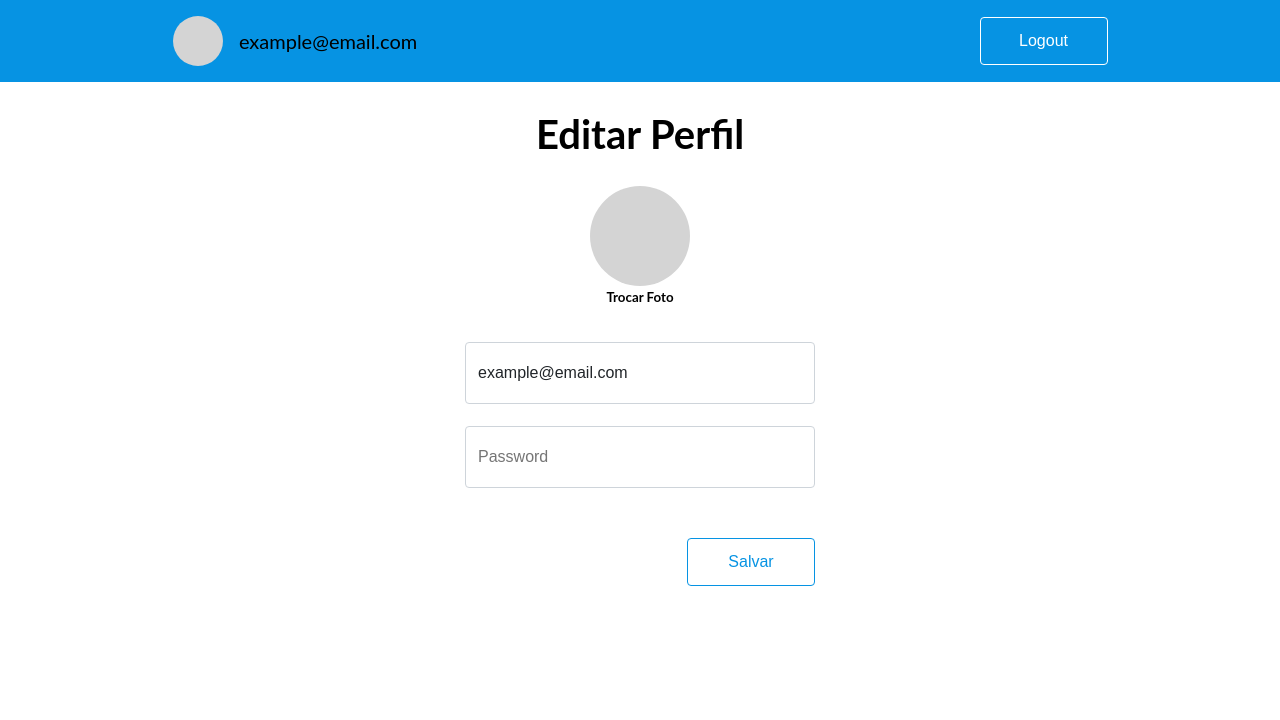
Test: Form Validations › should validate empty fields
Clear the field with placeholder "Username" at (640, 373), box [465,342,815,404]
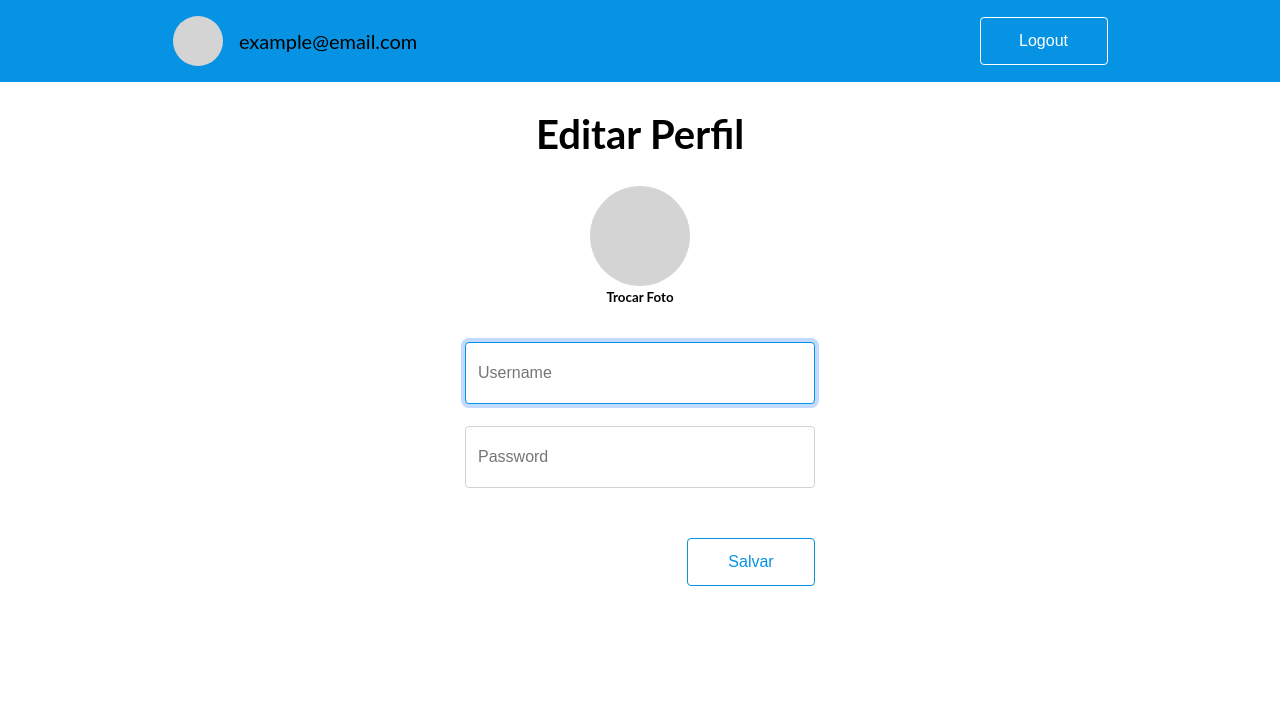
Click the button "Salvar" at (751, 562), box [687,538,815,586]
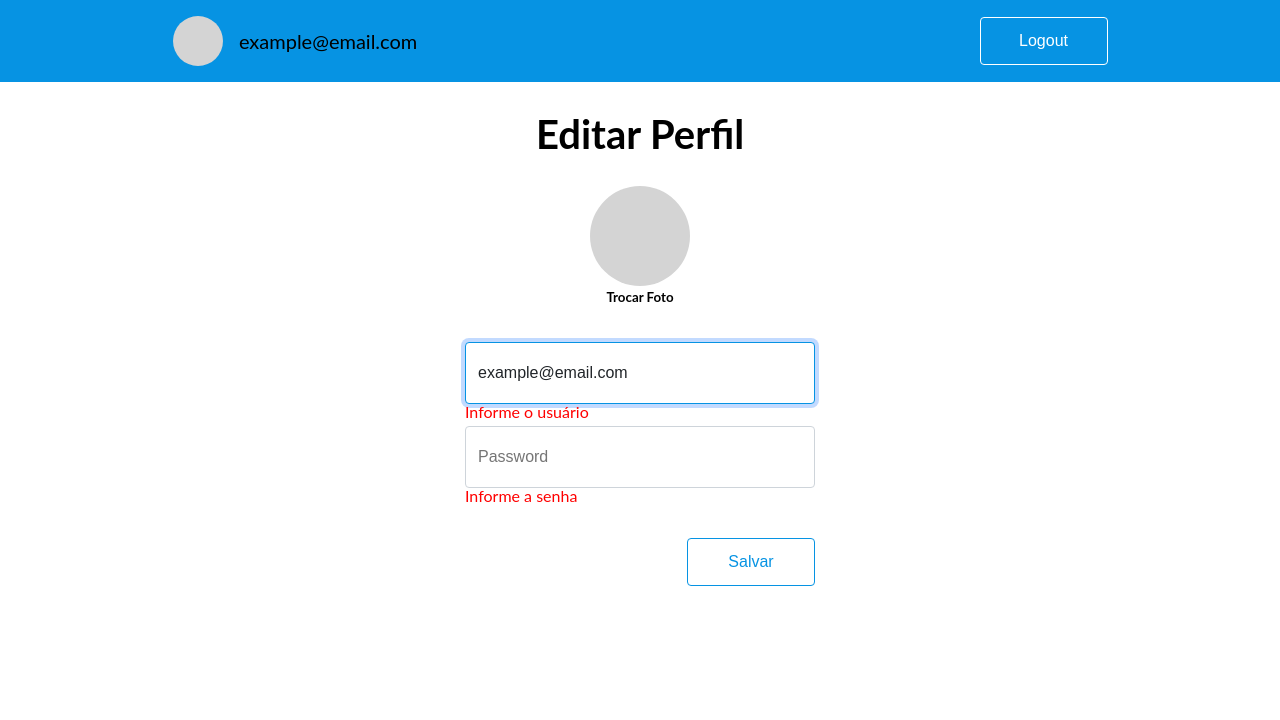
Expected: the text "Informe o usuário" is shown, [465,402,589,421]
Expected: the text "Informe a senha" is shown, [465,486,577,505]
